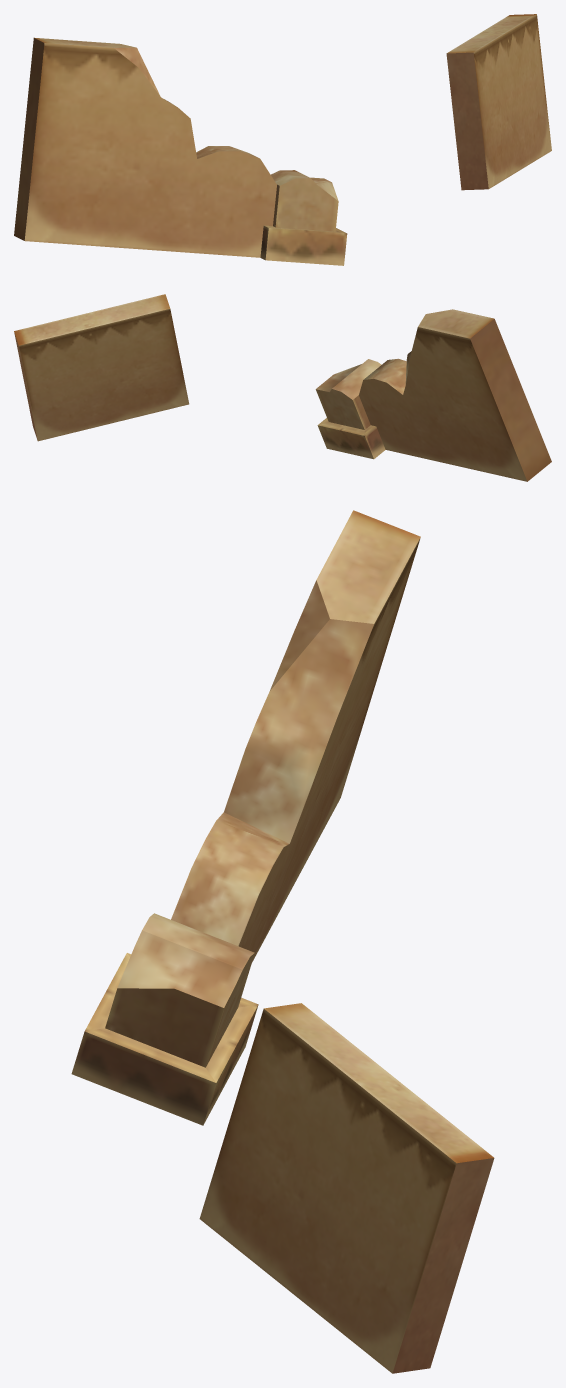
The model's file is Area_04_5.fbx.
3 views of the same model, one above another, from view 1: azimuth 30°, elevation 25°; view 2: azimuth 150°, elevation 25°; view 3: azimuth 270°, elevation 25° (orthographic). The views are drawn at different scales.
Visible parts, largest first — view 1: Area_04_5; view 2: Area_04_5; view 3: Area_04_5.
Part boxes in pixels (x1,y1,x2,y2): Area_04_5: (14, 14, 551, 265); Area_04_5: (14, 294, 551, 481); Area_04_5: (71, 510, 494, 1373).
Bounding box in the file's own units: 5219 × 2184 × 1943.
Materials: 1 (1 with a texture image).
